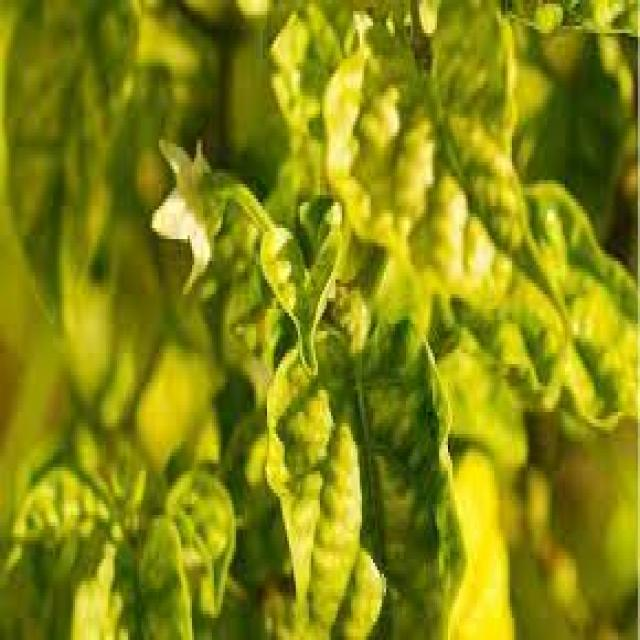virus_kuning: (265, 315, 473, 632)
